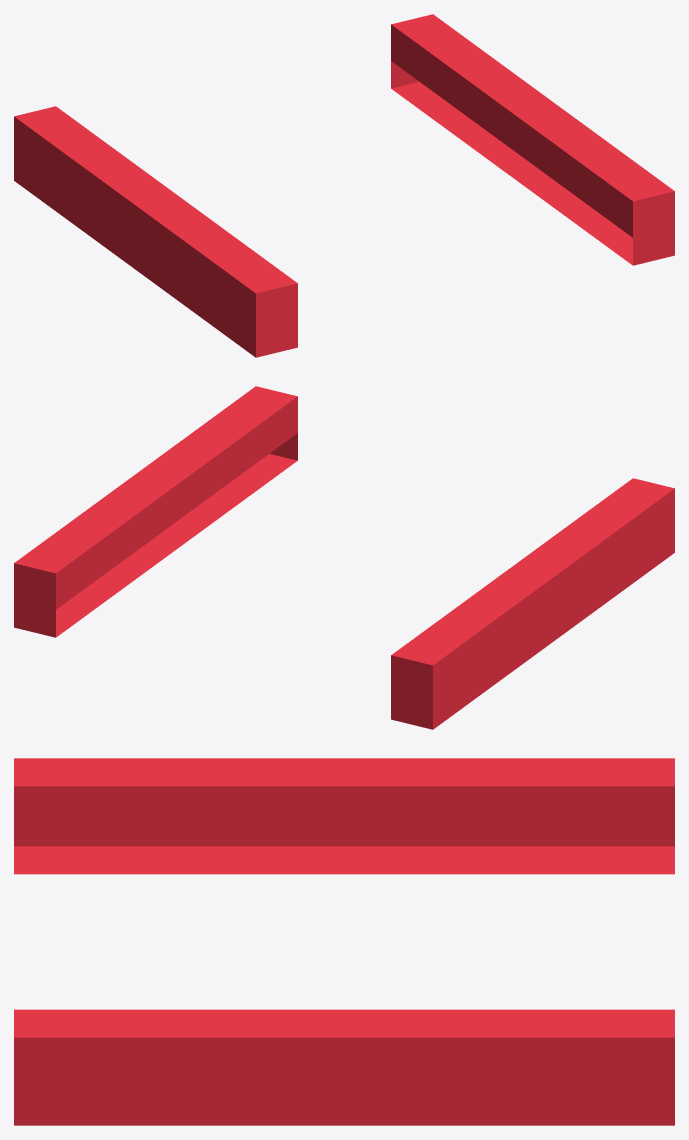
The model's file is bumpdownwalls paredes.FBX.
The picture shows the model from 3 angles, top to bottom: view 1: azimuth 30°, elevation 25°; view 2: azimuth 150°, elevation 25°; view 3: azimuth 270°, elevation 25°; orthographic projection. The views are drawn at different scales.
Visible parts, largest first — view 1: bumpDownWalls; view 2: bumpDownWalls; view 3: bumpDownWalls.
Part boxes in pixels (x1,y1,x2,y2): bumpDownWalls: [14, 14, 674, 357]; bumpDownWalls: [14, 386, 674, 729]; bumpDownWalls: [14, 758, 674, 1125].
Size of the model in its own units: 99.99 by 14.67 by 99.99.
